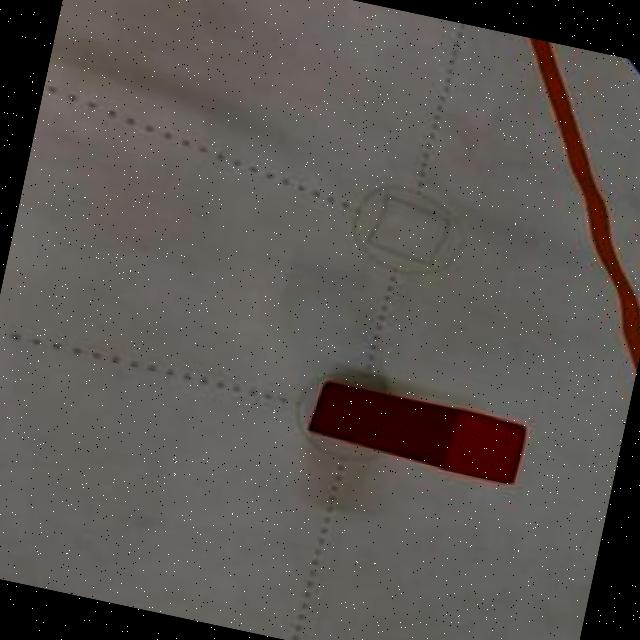redbox: (302, 378, 529, 489)
